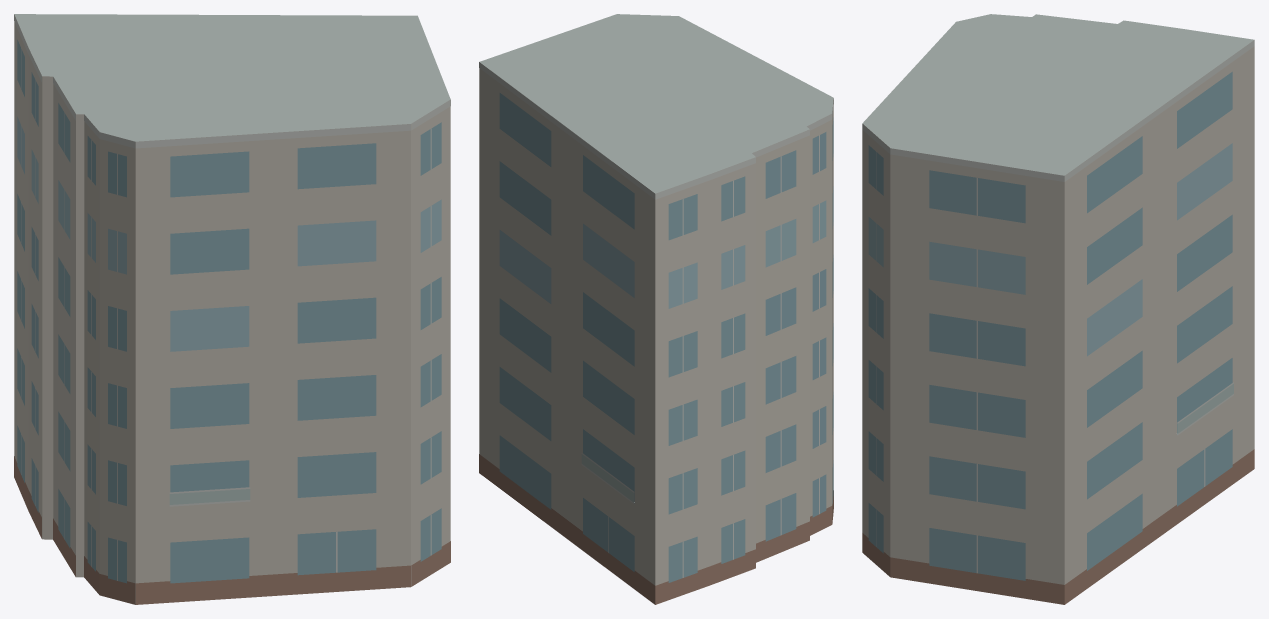
The model's file is survey-upis-32643767.glb.
3 renders of one model, left to right at view 1: azimuth 30°, elevation 25°; view 2: azimuth 150°, elevation 25°; view 3: azimuth 270°, elevation 25°, orthographic. The views are drawn at different scales.
Parts seen in each view (by area): view 1: survey-upis-32643767.tmp; view 2: survey-upis-32643767.tmp; view 3: survey-upis-32643767.tmp.
Boxes of the visible parts, <box> form: survey-upis-32643767.tmp: <box>14,14,450,604</box>; survey-upis-32643767.tmp: <box>479,14,833,604</box>; survey-upis-32643767.tmp: <box>862,14,1254,604</box>.
Size of the model in its own units: 13.43 by 16.6 by 13.77.
